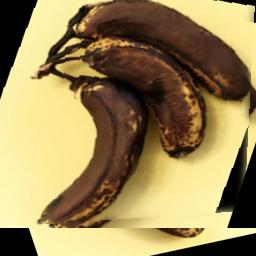Banana Rotten: (0, 0, 256, 228)
